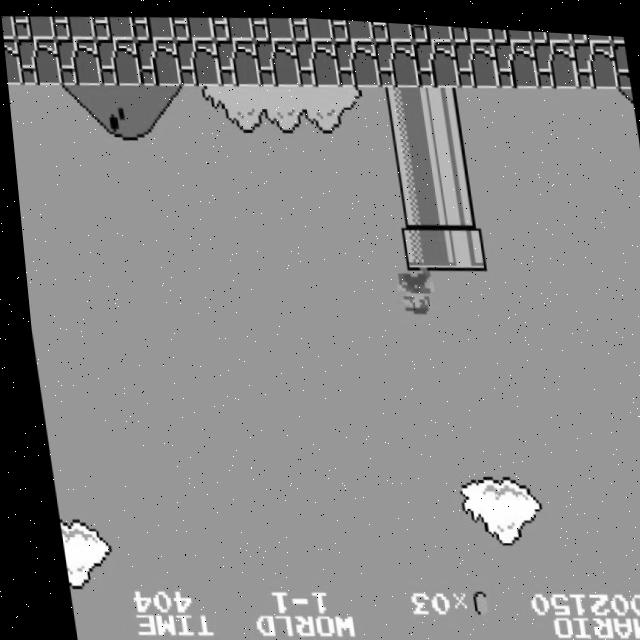11- little_mario: (387, 261, 436, 313)
14- pipe: (424, 126, 471, 176), (430, 172, 477, 221), (390, 173, 437, 222), (419, 80, 465, 130), (385, 126, 431, 176), (379, 80, 425, 130)
15- pipe_head: (436, 218, 483, 268), (396, 218, 443, 268)
17- undestructible_block: (532, 34, 579, 84), (492, 34, 539, 84), (452, 34, 499, 84), (333, 35, 380, 85), (293, 35, 340, 85), (253, 35, 300, 85), (213, 35, 260, 85), (174, 36, 221, 86), (134, 36, 181, 86), (94, 36, 141, 86), (572, 34, 618, 84), (413, 34, 459, 84), (373, 35, 419, 85), (55, 36, 101, 86), (15, 37, 61, 87), (211, 13, 255, 40), (171, 13, 215, 40), (131, 14, 175, 41), (91, 14, 135, 41), (51, 14, 95, 41), (251, 13, 294, 40), (12, 14, 55, 41), (290, 14, 334, 39), (330, 15, 374, 39), (370, 17, 414, 39), (611, 34, 630, 82), (3, 38, 21, 86), (410, 19, 453, 38), (450, 21, 493, 38), (490, 23, 533, 38), (530, 25, 573, 38), (570, 27, 613, 38), (1, 16, 16, 41), (610, 28, 625, 36)
